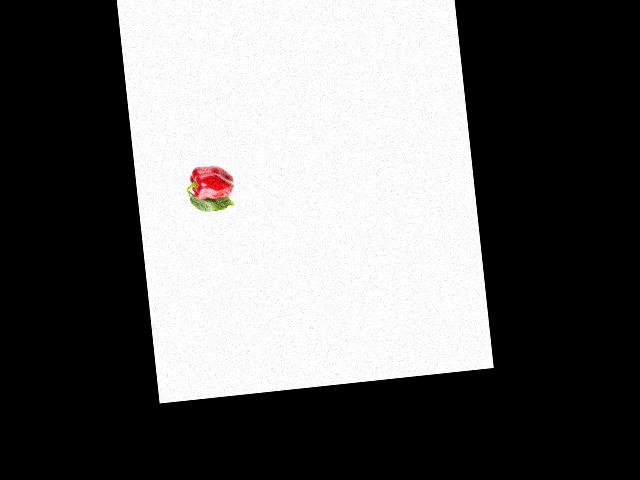bell_pepper: (184, 159, 237, 204)
